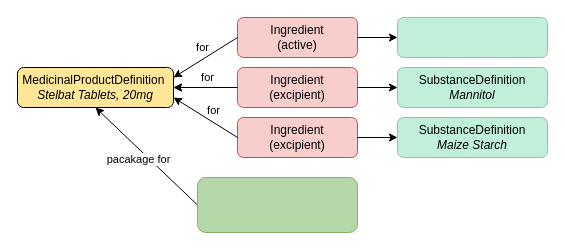
Some shapes in this 565 by 250 pixel diagram are drawn without their labels. The shapes that lost their labels are listed below. From the top down, each one's centre as x and y in pixels, then its label:
pixel 472 37: SubstanceDefinition Stelbatolol
pixel 277 204: PackagedProductDefinition - Description of Container Closure
